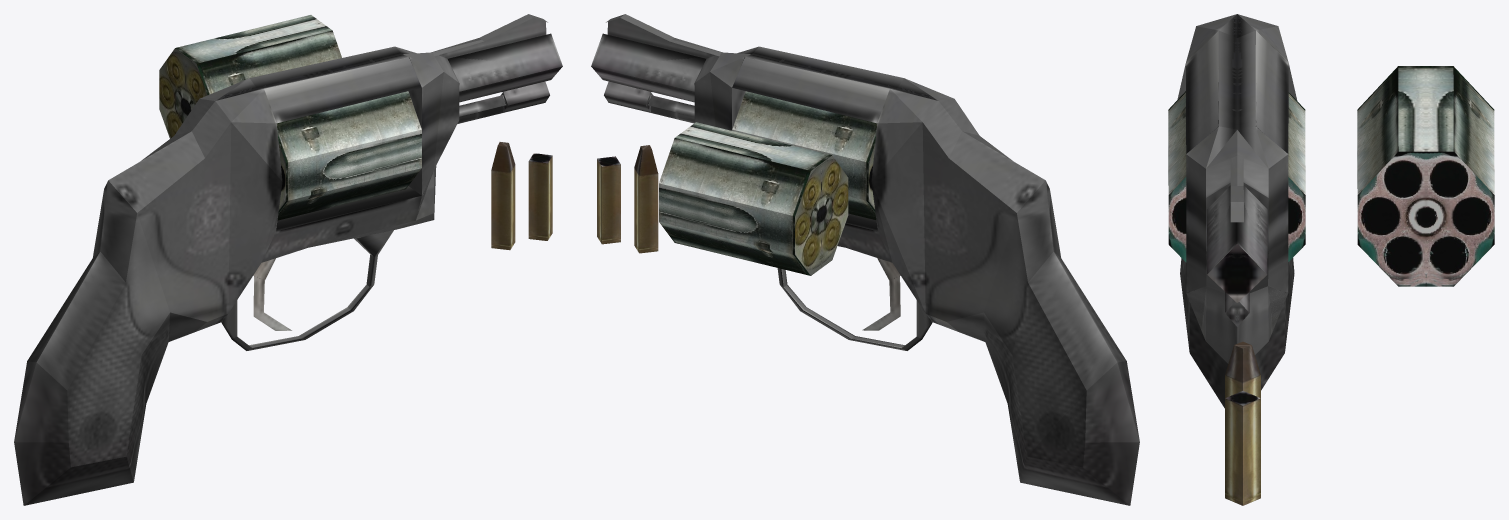
3 renders of one model, left to right at view 1: azimuth 30°, elevation 25°; view 2: azimuth 150°, elevation 25°; view 3: azimuth 270°, elevation 25°, orthographic. The views are drawn at different scales.
Visible parts, largest first — view 1: HammerlessBody, HammerlessCylindereEmpty, HammerlessCylinder, Bullet.004, Bullet.001, HammerlessTrigger; view 2: HammerlessBody, HammerlessCylinder, HammerlessCylindereEmpty, Bullet.004, Bullet.001, HammerlessTrigger; view 3: HammerlessBody, HammerlessCylinder, HammerlessCylindereEmpty, Bullet.001, Bullet.004.
Boxes of the visible parts, x1,y1,x2,y2 form: HammerlessBody: (14, 14, 562, 505); HammerlessCylindereEmpty: (276, 91, 421, 220); HammerlessCylinder: (159, 15, 341, 138); Bullet.004: (491, 142, 515, 250); Bullet.001: (528, 153, 552, 240); HammerlessTrigger: (253, 258, 291, 330); HammerlessBody: (591, 14, 1139, 505); HammerlessCylinder: (659, 122, 848, 275); HammerlessCylindereEmpty: (732, 91, 877, 219); Bullet.004: (634, 145, 658, 253); Bullet.001: (597, 156, 620, 244); HammerlessTrigger: (862, 258, 900, 330); HammerlessBody: (1177, 14, 1297, 408); HammerlessCylinder: (1357, 66, 1494, 286); HammerlessCylindereEmpty: (1168, 91, 1305, 262); Bullet.001: (1225, 391, 1260, 505); Bullet.004: (1225, 341, 1260, 397).
Size of the model in its own units: 1.91 by 1.25 by 0.7769.
Materials: 4 (4 with a texture image).
